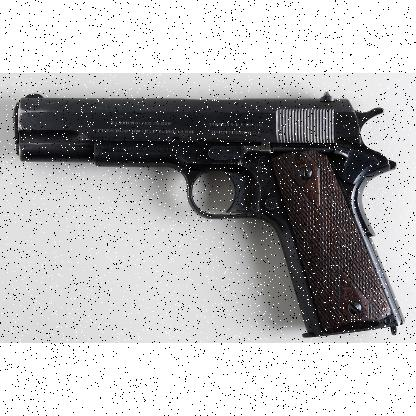gun: (12, 87, 404, 336)
